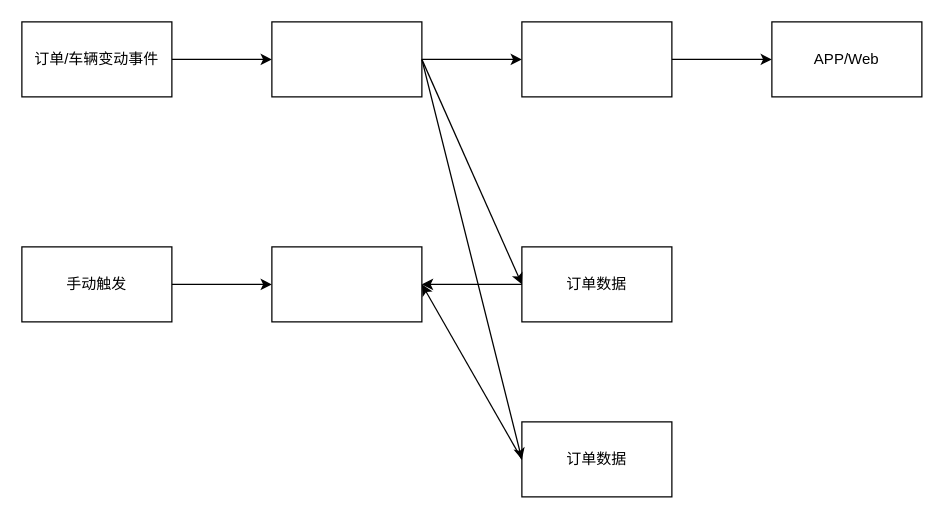
Some shapes in this 944 by 519 pixel diagram are drawn without their labels. Here are the shapes that lost their labels. From the top down, the centre of each, then its label:
At (346,59): "根据订单/车辆信息变动出租率结果".
At (596,59): "出租率结果".
At (346,284): "读取一段时间的订单数据和车辆数据计算出租率".
